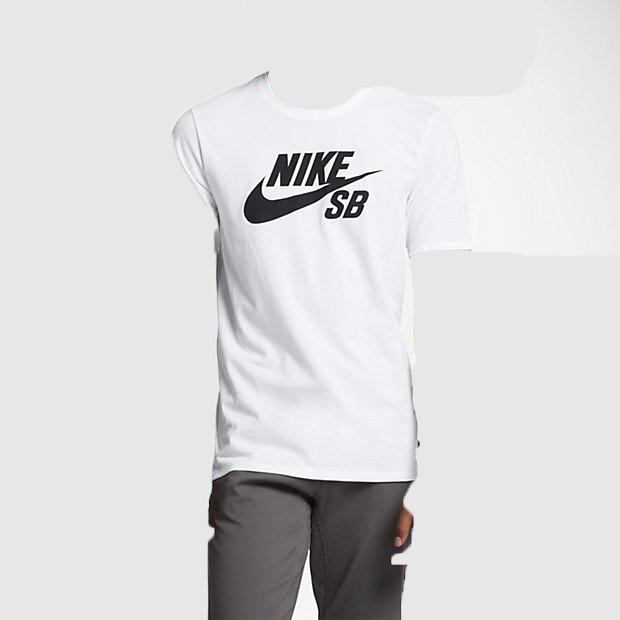teeshirt: (167, 65, 484, 489)
